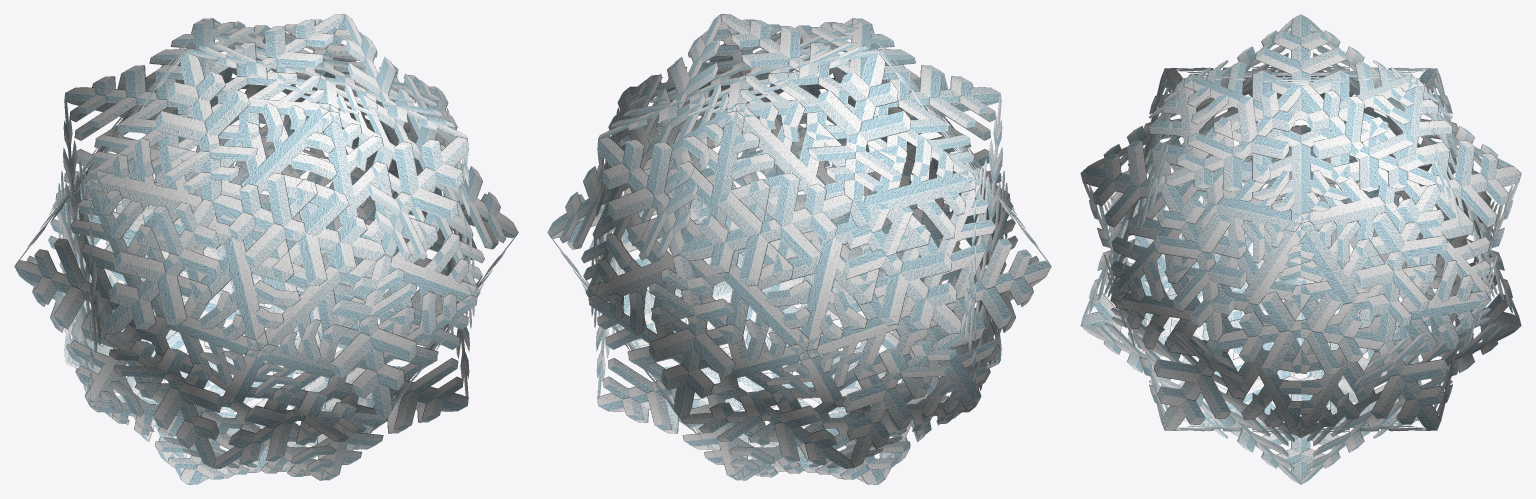
File: SmallTriambicIcosahedron44.gltf
The picture shows the model from 3 angles, left to right: view 1: azimuth 30°, elevation 25°; view 2: azimuth 150°, elevation 25°; view 3: azimuth 270°, elevation 25°; orthographic projection. The views are drawn at different scales.
Parts seen in each view (by area): view 1: SmallTriambicIcosahedron; view 2: SmallTriambicIcosahedron; view 3: SmallTriambicIcosahedron.
Part boxes in pixels (left/top/right/bottom): SmallTriambicIcosahedron: left=14, top=14, right=518, bottom=484; SmallTriambicIcosahedron: left=547, top=14, right=1051, bottom=484; SmallTriambicIcosahedron: left=1080, top=14, right=1521, bottom=484.
Bounding box in the file's own units: 1.45 × 1.45 × 1.45.
Materials: 1 (1 with a texture image).
